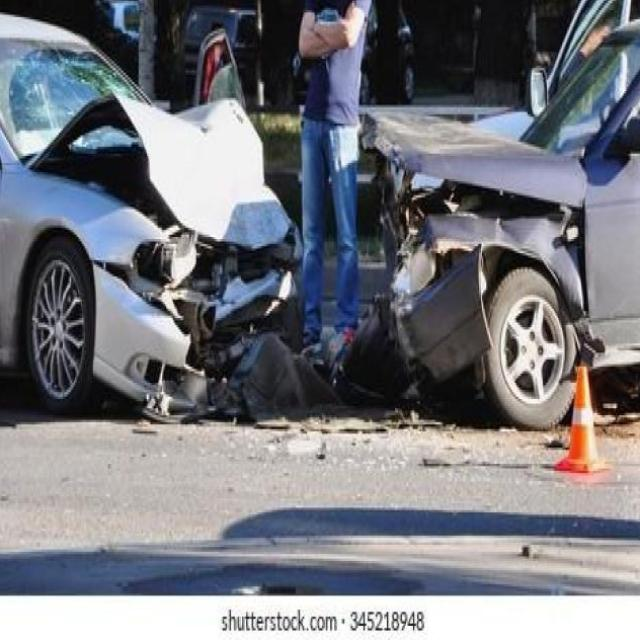accident: (12, 1, 640, 459)
